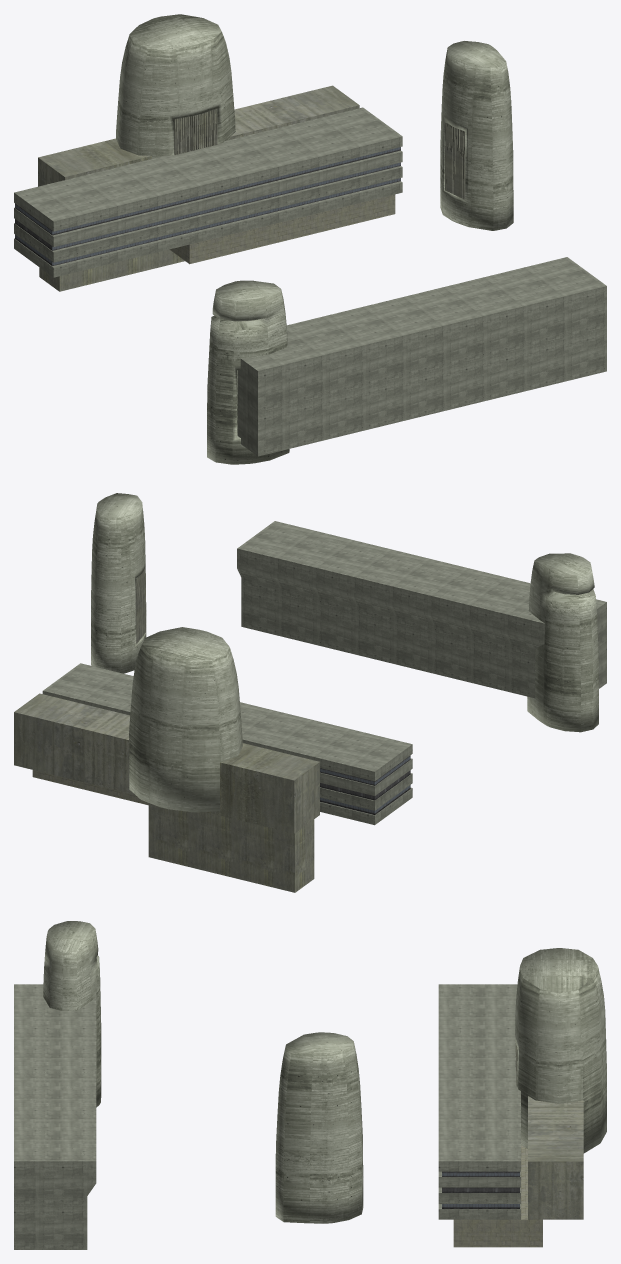
The model's file is SM_Level_PlageTymoes_Buildings00.fbx.
3 views of the same model, one above another, from view 1: azimuth 30°, elevation 25°; view 2: azimuth 150°, elevation 25°; view 3: azimuth 270°, elevation 25° (orthographic). The views are drawn at different scales.
Visible parts, largest first — view 1: SM_Level_PlageTymoes_Buildings00; view 2: SM_Level_PlageTymoes_Buildings00; view 3: SM_Level_PlageTymoes_Buildings00.
Part boxes in pixels (<box>): SM_Level_PlageTymoes_Buildings00: <box>14,14,606,464</box>; SM_Level_PlageTymoes_Buildings00: <box>14,493,606,892</box>; SM_Level_PlageTymoes_Buildings00: <box>14,921,606,1249</box>.
Size of the model in its own units: 12420 by 7034 by 15103.
